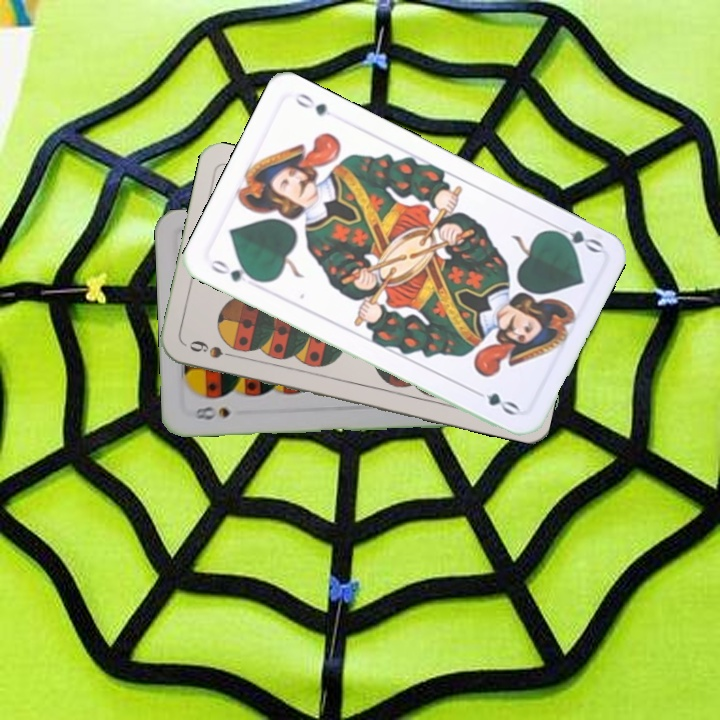GO: (546, 219, 605, 256), (206, 255, 262, 285)
S8: (189, 402, 233, 422)
S9: (185, 336, 242, 361)
